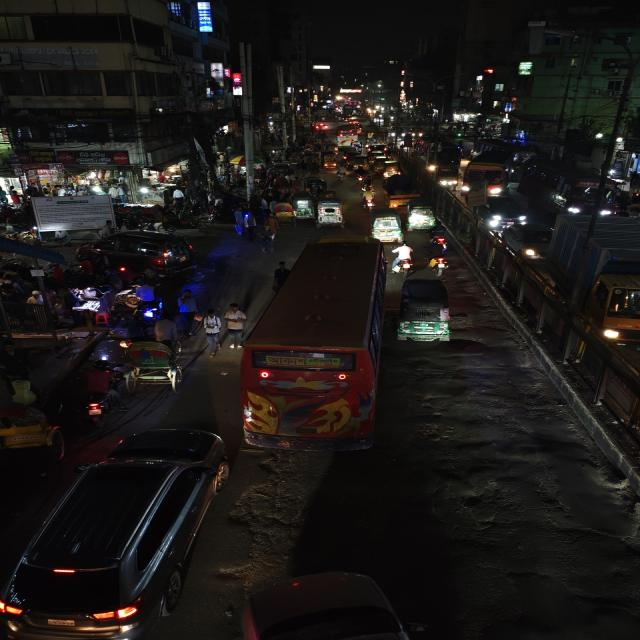bus: (239, 235, 389, 468), (515, 158, 625, 215), (462, 148, 512, 198)
car: (0, 422, 232, 640), (67, 229, 204, 281), (498, 222, 556, 262), (480, 192, 528, 226)
cng: (395, 276, 455, 350), (367, 210, 406, 242), (314, 194, 346, 228), (405, 197, 437, 231), (292, 192, 314, 220), (302, 176, 328, 195), (381, 159, 400, 176)
motorcycle: (80, 363, 115, 427), (391, 240, 417, 275), (426, 243, 454, 275), (427, 220, 452, 250), (358, 187, 377, 207), (336, 164, 349, 182), (353, 166, 366, 183)
pedestrian: (199, 305, 224, 359), (177, 287, 200, 339), (224, 301, 246, 353), (242, 210, 260, 240), (258, 222, 274, 254), (234, 206, 243, 234)
pickup_van: (381, 175, 420, 205)
rickshaw: (0, 367, 75, 459), (124, 316, 192, 400), (271, 201, 296, 226), (322, 153, 338, 170)
truck: (549, 214, 639, 355)
